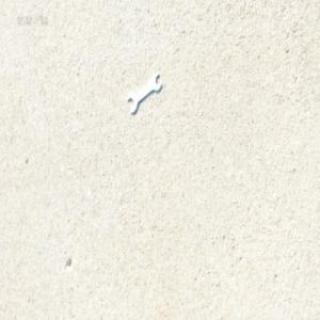Wrenchtrack_idkeyframe: (126, 71, 162, 113)
